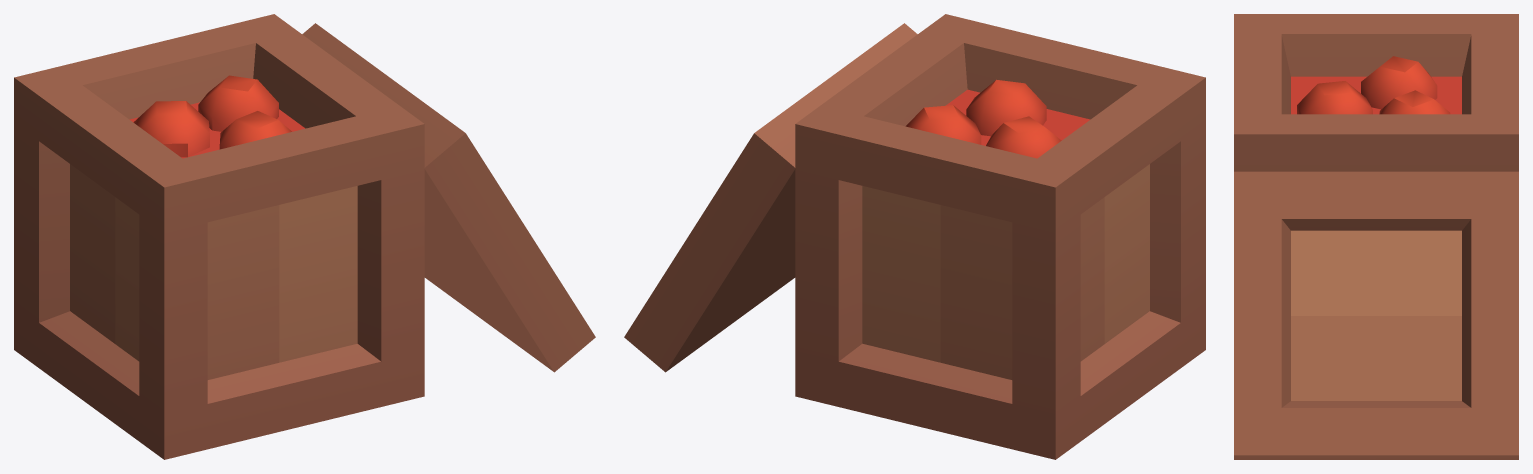
Rendered from crate_open.glb.
3 renders of one model, left to right at view 1: azimuth 30°, elevation 25°; view 2: azimuth 150°, elevation 25°; view 3: azimuth 270°, elevation 25°, orthographic. The views are drawn at different scales.
Parts seen in each view (by area): view 1: crate_open; view 2: crate_open; view 3: crate_open.
Part boxes in pixels (x1,y1,x2,y2): crate_open: [14, 14, 595, 459]; crate_open: [624, 14, 1205, 459]; crate_open: [1234, 14, 1518, 459].
Size of the model in its own units: 0.3316 by 0.2056 by 0.2.
Materials: 1 (1 with a texture image).
